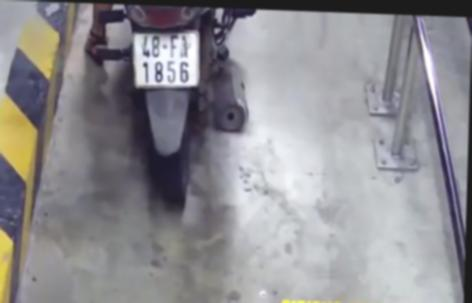License_Plate: (125, 28, 206, 90)
